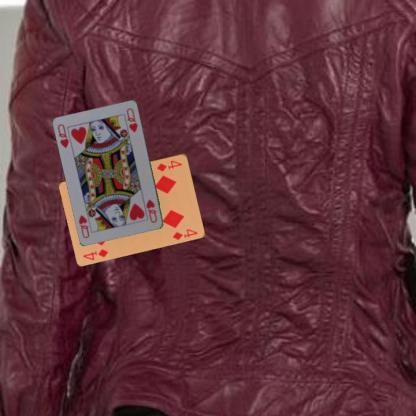4d: (154, 157, 183, 173), (80, 246, 110, 261)
Qh: (56, 121, 70, 150), (144, 197, 158, 224)
